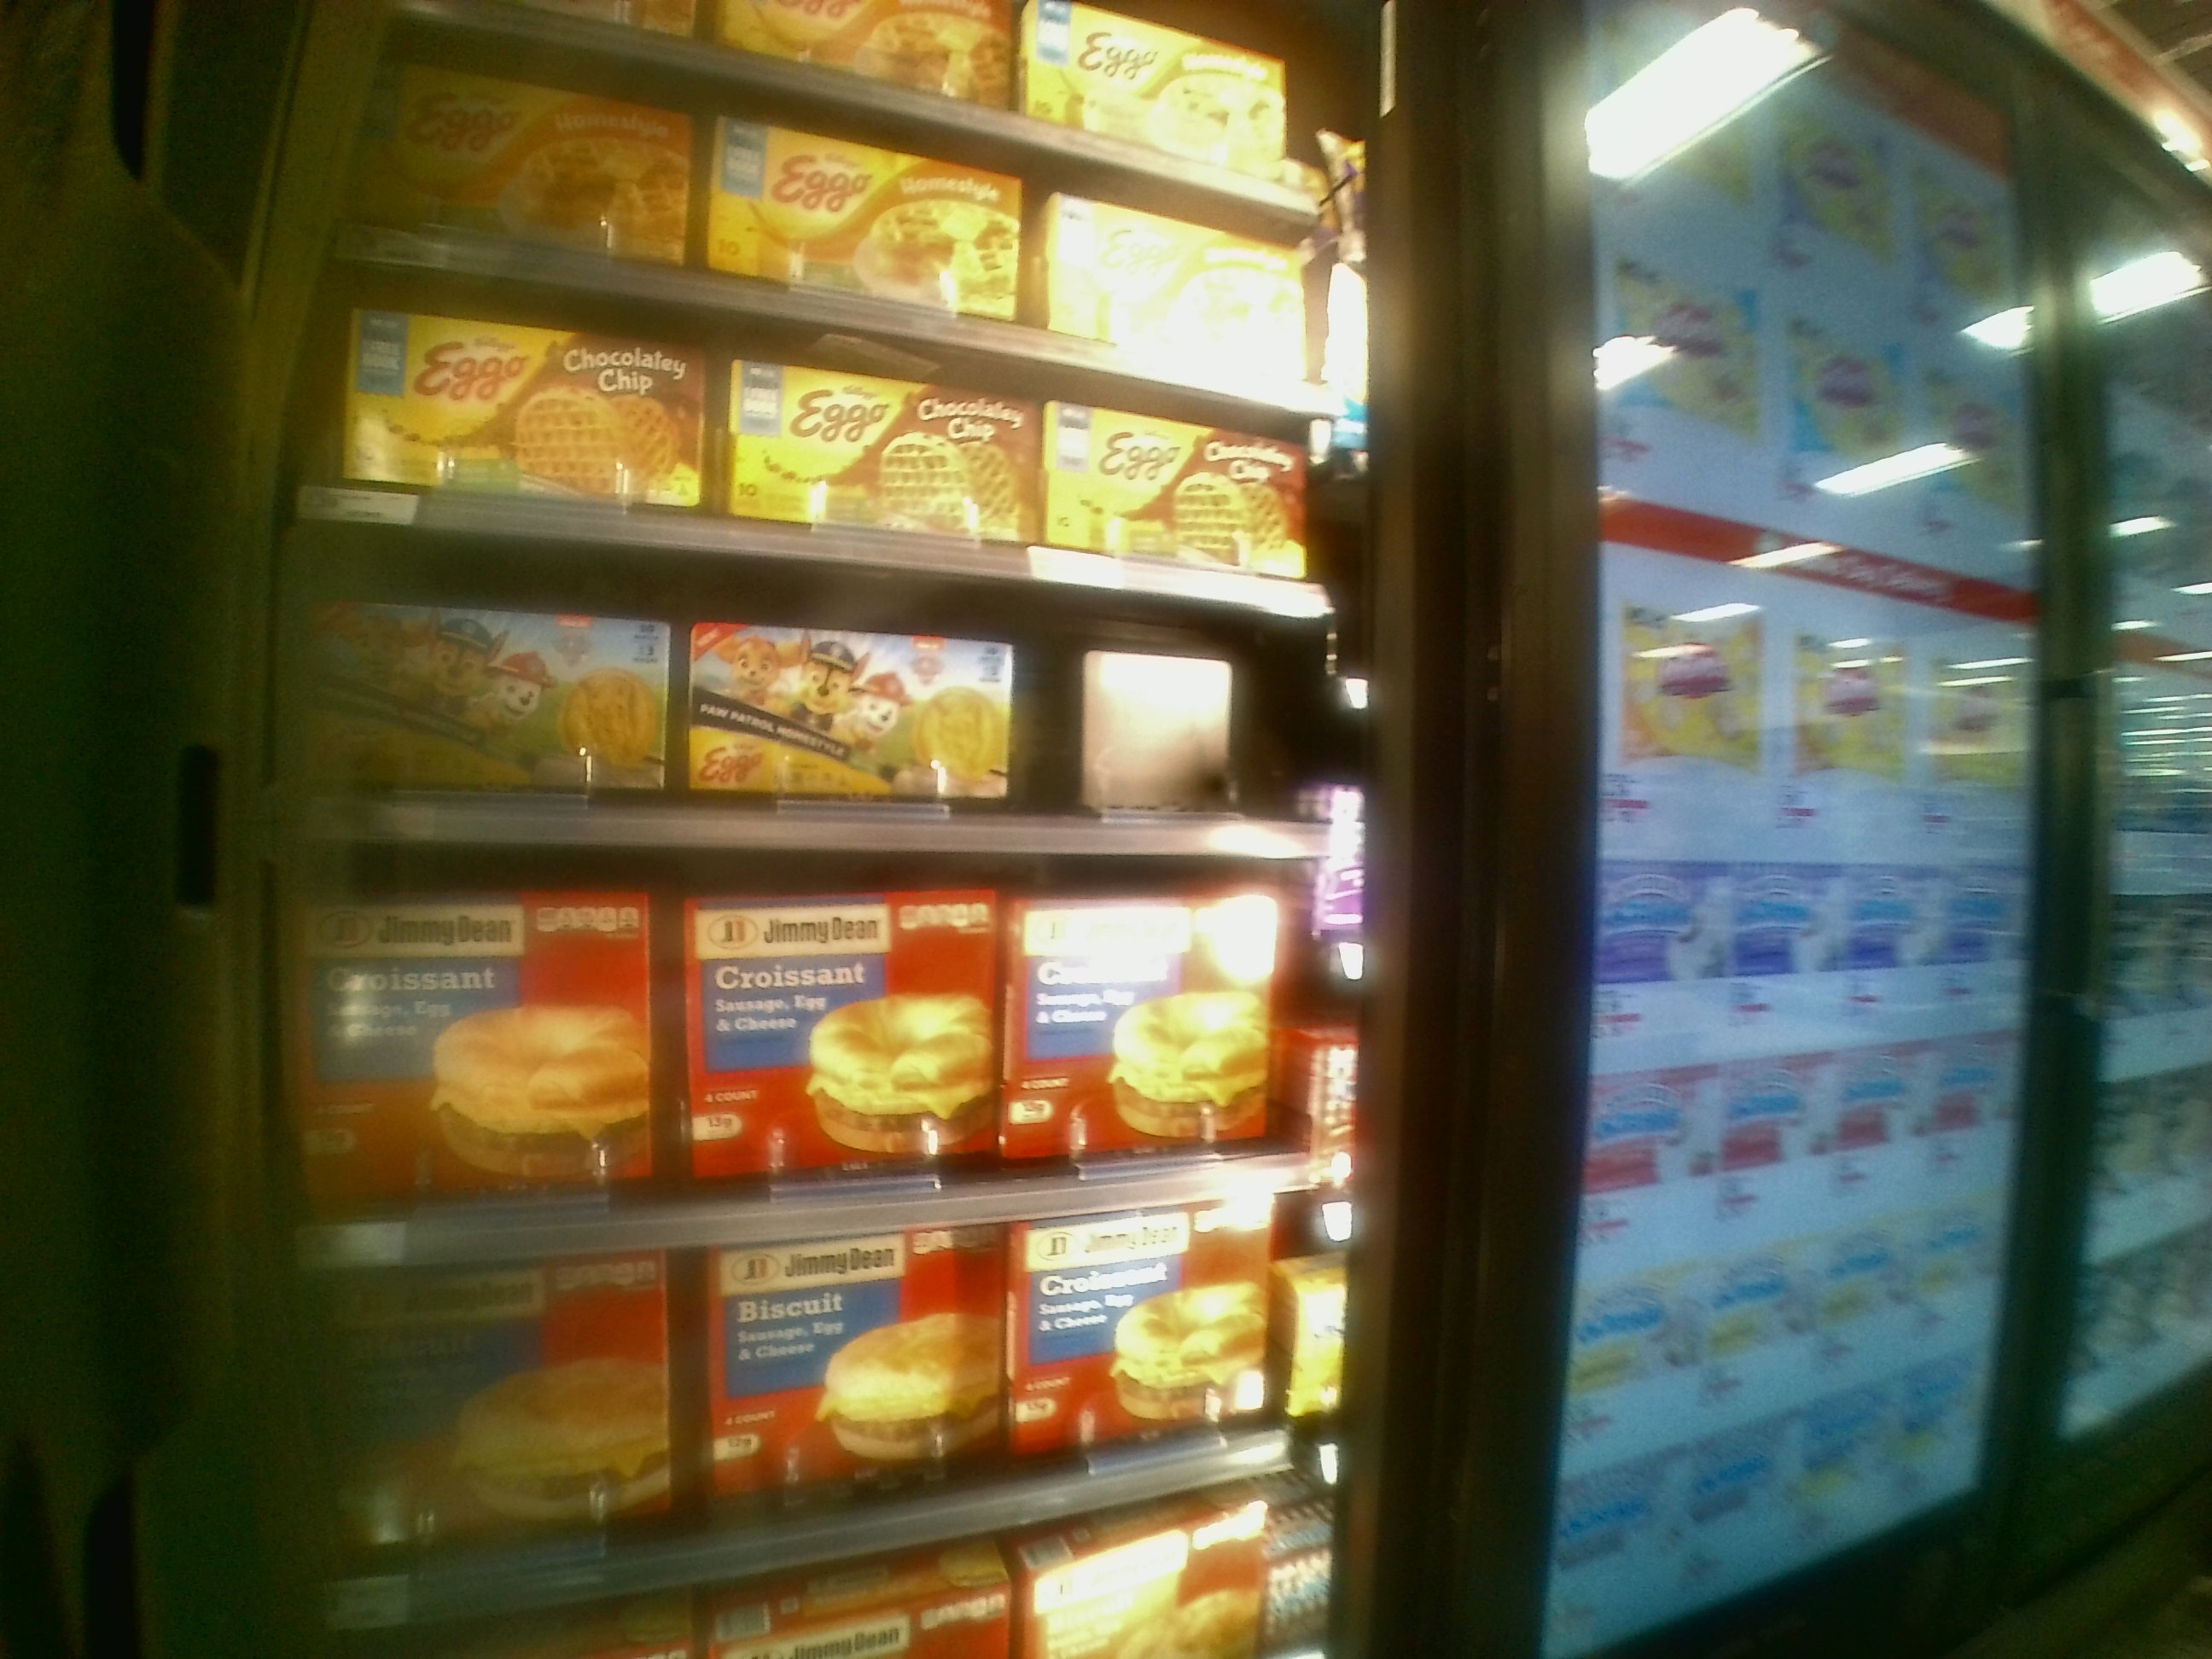shelf: (284, 843, 1348, 1265), (284, 511, 1366, 857)
